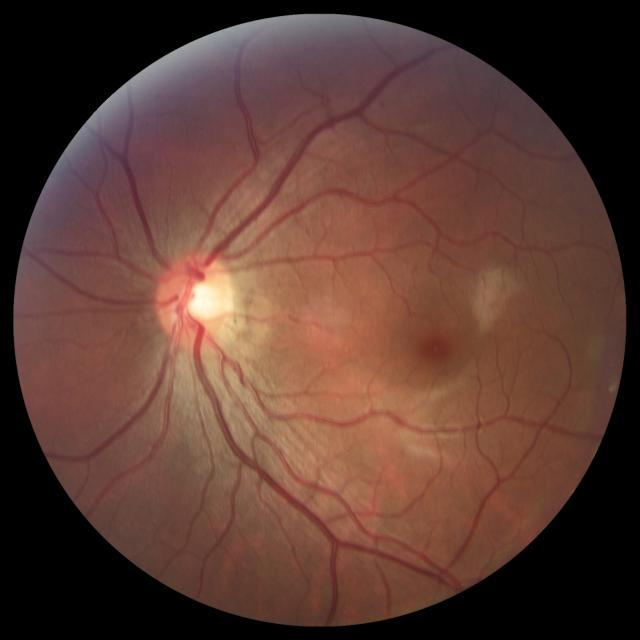OC: (178, 282, 222, 324)
OD: (156, 252, 236, 350)
